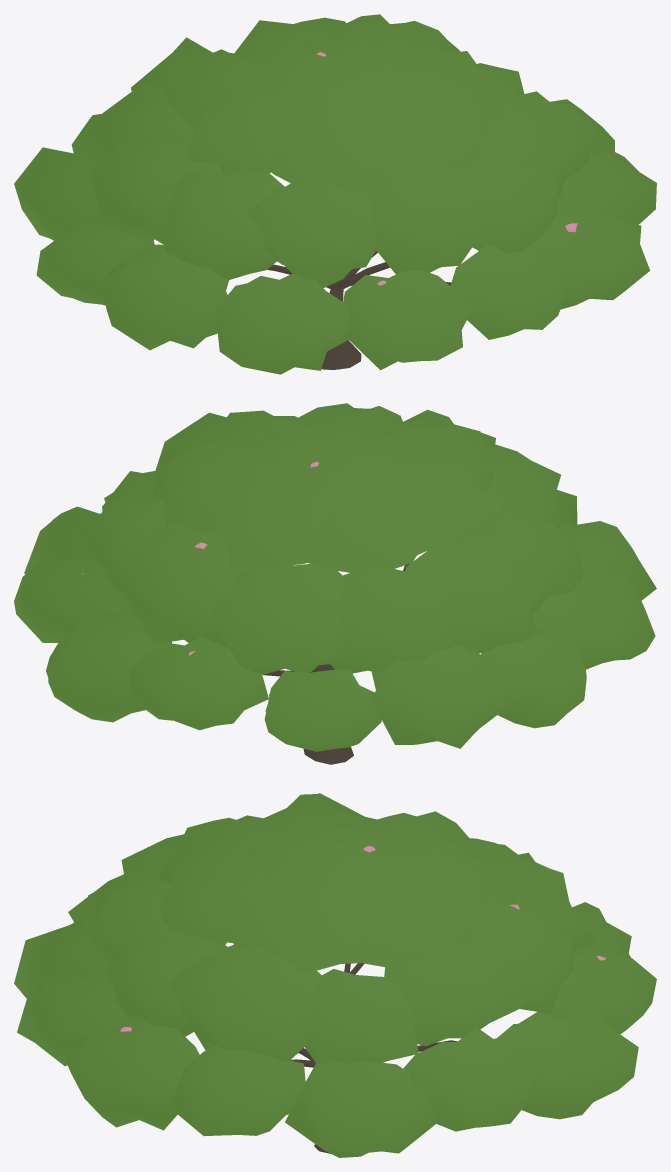
The model's file is Blender_Monkeypod_1.glb.
3 renders of one model, top to bottom at view 1: azimuth 30°, elevation 25°; view 2: azimuth 150°, elevation 25°; view 3: azimuth 270°, elevation 25°, orthographic.
Parts seen in each view (by area): view 1: Blender_Monkeypod_1; view 2: Blender_Monkeypod_1; view 3: Blender_Monkeypod_1.
Part boxes in pixels (bbox=[...]): Blender_Monkeypod_1: bbox=[14, 14, 656, 374]; Blender_Monkeypod_1: bbox=[14, 403, 656, 764]; Blender_Monkeypod_1: bbox=[14, 793, 656, 1157].
Size of the model in its own units: 36.71 by 19.24 by 36.61.
